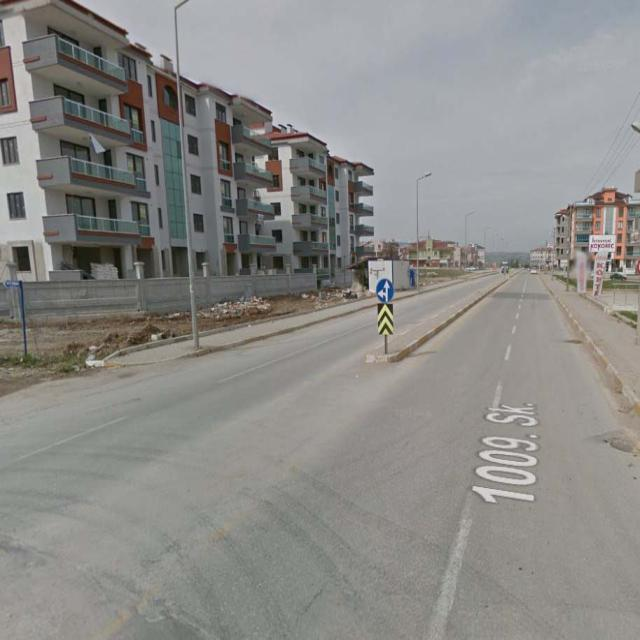ilerisol: (376, 279, 394, 300)
